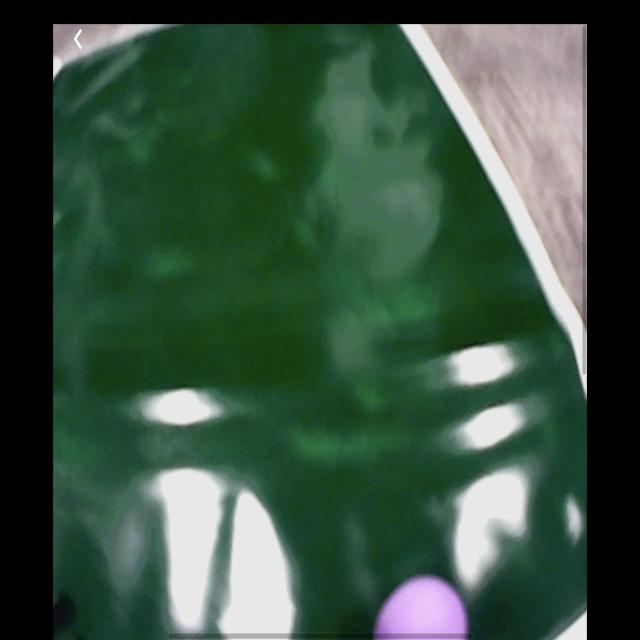ball: (372, 573, 470, 638)
